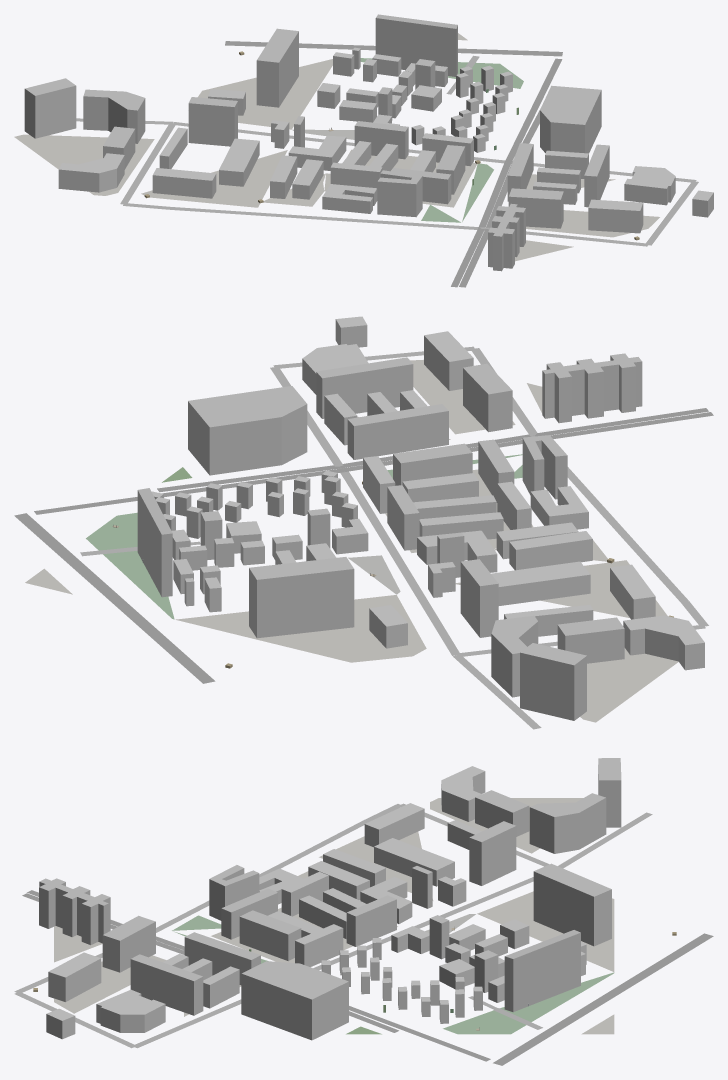
3 views of the same model, one above another, from view 1: azimuth 30°, elevation 25°; view 2: azimuth 150°, elevation 25°; view 3: azimuth 270°, elevation 25° (orthographic). The views are drawn at different scales.
Bounding box in the file's own units: 590 × 52.64 × 625.
